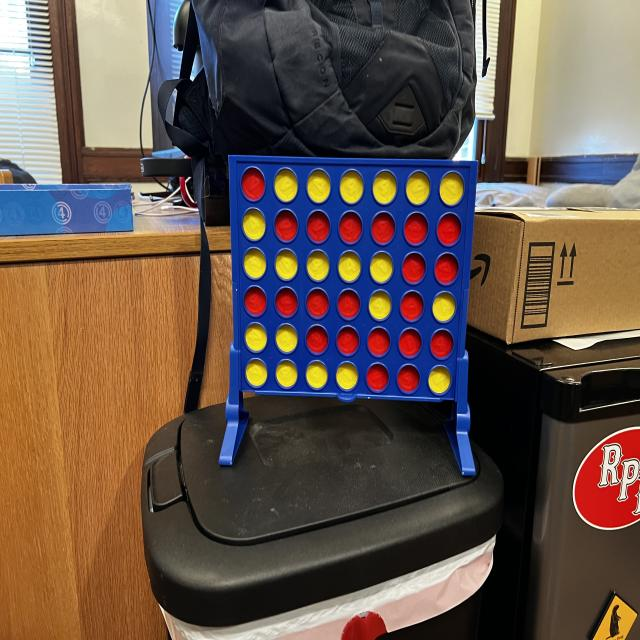Board: (227, 150, 480, 404)
Red Piece: (432, 248, 463, 289), (435, 207, 464, 250), (240, 282, 272, 320), (368, 209, 398, 249), (304, 207, 333, 247), (337, 209, 367, 247), (399, 250, 429, 288), (334, 321, 364, 359), (402, 209, 431, 248), (240, 164, 268, 204), (334, 286, 364, 323), (272, 284, 301, 322), (396, 325, 426, 361), (304, 285, 333, 322), (272, 208, 300, 246), (302, 323, 332, 358), (364, 359, 392, 394), (428, 327, 456, 361), (367, 325, 393, 360), (396, 362, 421, 396), (400, 290, 426, 322)
Yellow Piece: (336, 164, 368, 206), (436, 164, 466, 207), (242, 353, 273, 389), (304, 166, 332, 205), (404, 167, 432, 206), (238, 245, 270, 279), (240, 206, 270, 242), (271, 166, 300, 203), (372, 166, 399, 205), (429, 289, 459, 324), (335, 246, 364, 282), (366, 287, 396, 321), (241, 320, 271, 354), (425, 361, 453, 397), (272, 246, 301, 280), (274, 354, 302, 389), (305, 246, 332, 281), (333, 357, 361, 389), (304, 358, 330, 392), (368, 249, 393, 284), (274, 323, 300, 354)
